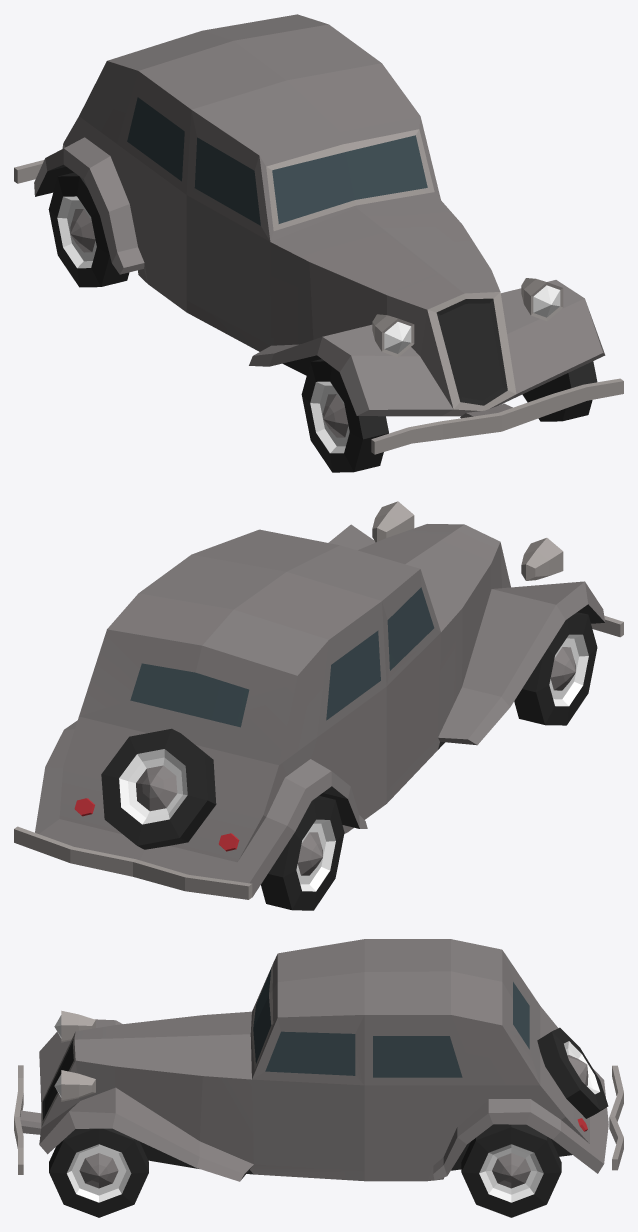
The model's file is vehicles_car-veteran.fbx.
3 views of the same model, one above another, from view 1: azimuth 30°, elevation 25°; view 2: azimuth 150°, elevation 25°; view 3: azimuth 270°, elevation 25° (orthographic). The views are drawn at different scales.
Visible parts, largest first — view 1: car_veteran_base, car_veteran_wheel_FR, car_veteran_wheel_BR, car_veteran_wheel_FL; view 2: car_veteran_base, car_veteran_wheel_BR, car_veteran_wheel_FR; view 3: car_veteran_base, car_veteran_wheel_BL, car_veteran_wheel_FL.
Boxes of the visible parts, <box> form: car_veteran_base: <box>14,14,623,454</box>; car_veteran_wheel_FR: <box>301,359,388,472</box>; car_veteran_wheel_BR: <box>48,172,129,287</box>; car_veteran_wheel_FL: <box>522,361,597,421</box>; car_veteran_base: <box>14,501,623,899</box>; car_veteran_wheel_BR: <box>261,796,344,910</box>; car_veteran_wheel_FR: <box>514,612,597,725</box>; car_veteran_base: <box>14,939,623,1181</box>; car_veteran_wheel_BL: <box>461,1124,561,1217</box>; car_veteran_wheel_FL: <box>49,1128,148,1217</box>.
Bounding box in the file's own units: 77.99 × 72.35 × 200.
